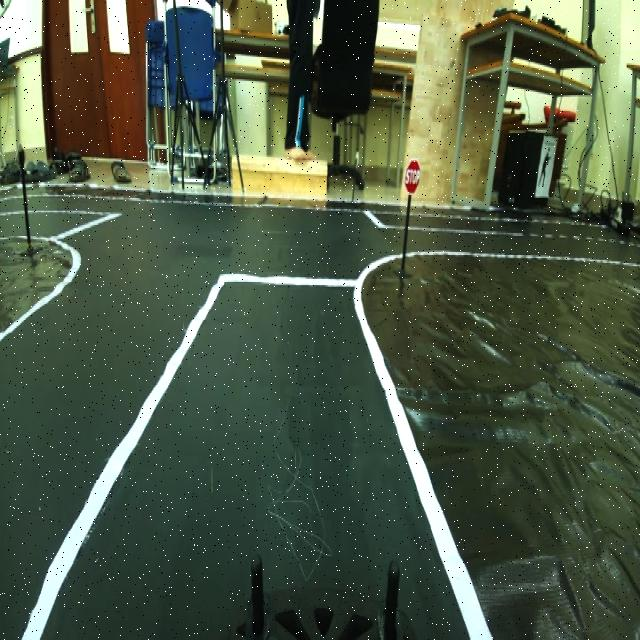stop: (400, 158, 421, 194)
